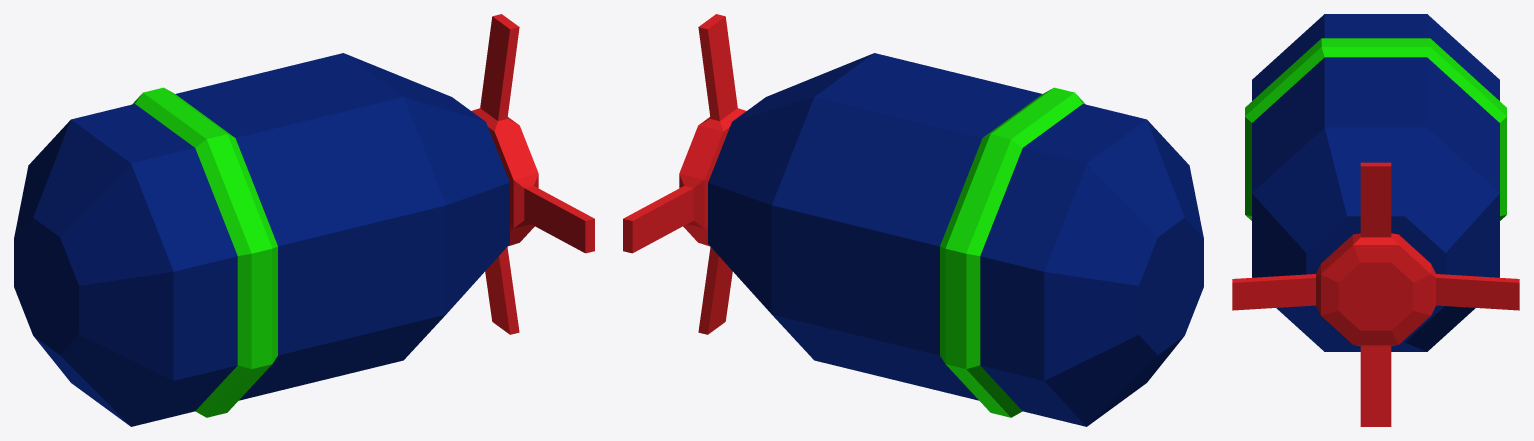
Rendered from player.glb.
3 views of the same model, side by side, from view 1: azimuth 30°, elevation 25°; view 2: azimuth 150°, elevation 25°; view 3: azimuth 270°, elevation 25° (orthographic). The views are drawn at different scales.
Parts seen in each view (by area): view 1: Body, Band, Propeller; view 2: Body, Band, Propeller; view 3: Body, Propeller, Band.
Part boxes in pixels (<box>): Body: <box>14,53,509,426</box>; Band: <box>132,87,277,417</box>; Propeller: <box>471,14,594,334</box>; Body: <box>708,53,1203,426</box>; Band: <box>940,87,1085,417</box>; Propeller: <box>623,14,746,334</box>; Body: <box>1252,14,1499,351</box>; Propeller: <box>1232,162,1519,426</box>; Band: <box>1245,38,1506,220</box>.
Bounding box in the file's own units: 1.77 × 1.11 × 1.11.
